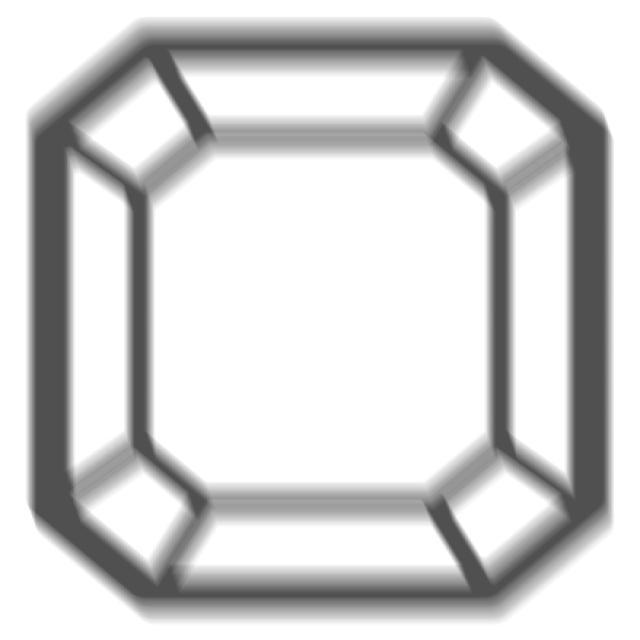emerald: (21, 18, 615, 628)
